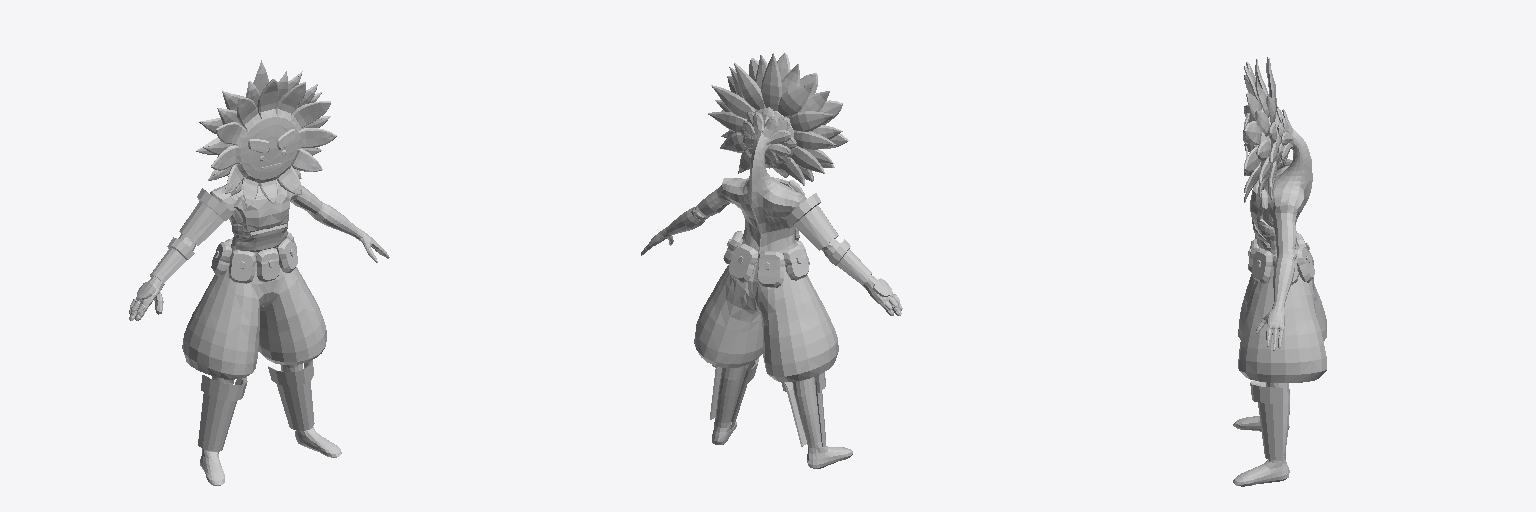
The picture shows the model from 3 angles: view 1: azimuth 30°, elevation 25°; view 2: azimuth 150°, elevation 25°; view 3: azimuth 270°, elevation 25°; orthographic projection.
Parts seen in each view (by area): view 1: polySurface1046, polySurface1043, model polySurface497, polySurface982 pCube51 polySurface995 polySurface995, polySurface996, polySurface991, polySurface22 model, model polySurface1026, polySurface988 polySurface982 pCube51, model polySurface1024, polySurface990 pCube54, polySurface982 pCube51 polySurface994 (+1 smaller); view 2: polySurface1046, model polySurface1024, polySurface22 model, model polySurface497, model polySurface1026, polySurface988 polySurface982 pCube51, polySurface1043, polySurface982 pCube51 polySurface995 polySurface995, polySurface982 pCube51 polySurface994, polySurface996; view 3: polySurface1046, polySurface996, polySurface22 model, polySurface1043, model polySurface497, model polySurface1026, model polySurface1024, polySurface991.
Part boxes in pixels (x1,y1,x2,y2): polySurface1046: (178, 179, 389, 378); polySurface1043: (211, 79, 336, 208); model polySurface497: (211, 231, 297, 283); polySurface982 pCube51 polySurface995 polySurface995: (198, 375, 247, 451); polySurface996: (268, 360, 314, 430); polySurface991: (232, 184, 292, 235); polySurface22 model: (200, 364, 341, 485); model polySurface1026: (203, 71, 330, 196); polySurface988 polySurface982 pCube51: (179, 188, 232, 245); model polySurface1024: (196, 60, 321, 180); polySurface990 pCube54: (235, 224, 287, 251); polySurface982 pCube51 polySurface994: (150, 237, 194, 282); polySurface1046: (641, 107, 840, 381); model polySurface1024: (708, 53, 836, 185); polySurface22 model: (712, 366, 852, 468); model polySurface497: (723, 231, 809, 287); model polySurface1026: (715, 55, 842, 181); polySurface988 polySurface982 pCube51: (785, 193, 838, 250); polySurface1043: (722, 53, 848, 181); polySurface982 pCube51 polySurface995 polySurface995: (781, 372, 825, 446); polySurface982 pCube51 polySurface994: (829, 239, 871, 285); polySurface996: (710, 358, 758, 429); polySurface1046: (1238, 106, 1326, 382); polySurface996: (1250, 380, 1282, 460); polySurface22 model: (1233, 382, 1289, 486); polySurface1043: (1244, 62, 1280, 202); model polySurface497: (1248, 231, 1314, 284); model polySurface1026: (1255, 59, 1270, 196); model polySurface1024: (1266, 57, 1277, 200); polySurface991: (1250, 180, 1274, 236).
Bounding box in the file's own units: 136 × 199 × 42.91.